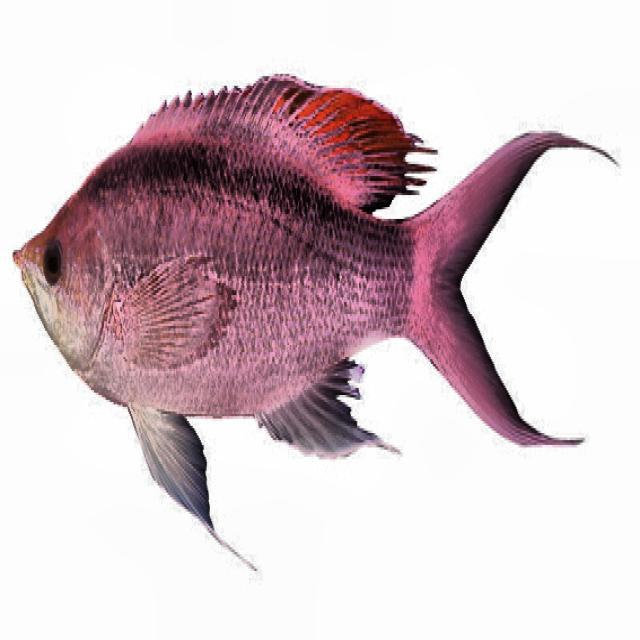fish: (12, 69, 624, 573)
